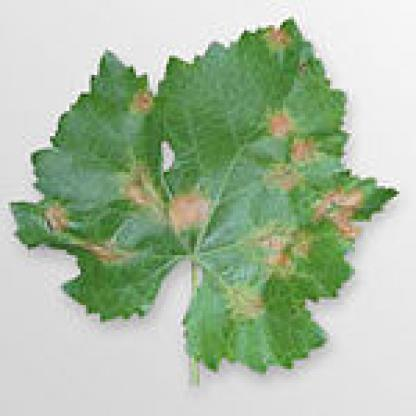grape leaf black rot: (8, 17, 408, 405)
